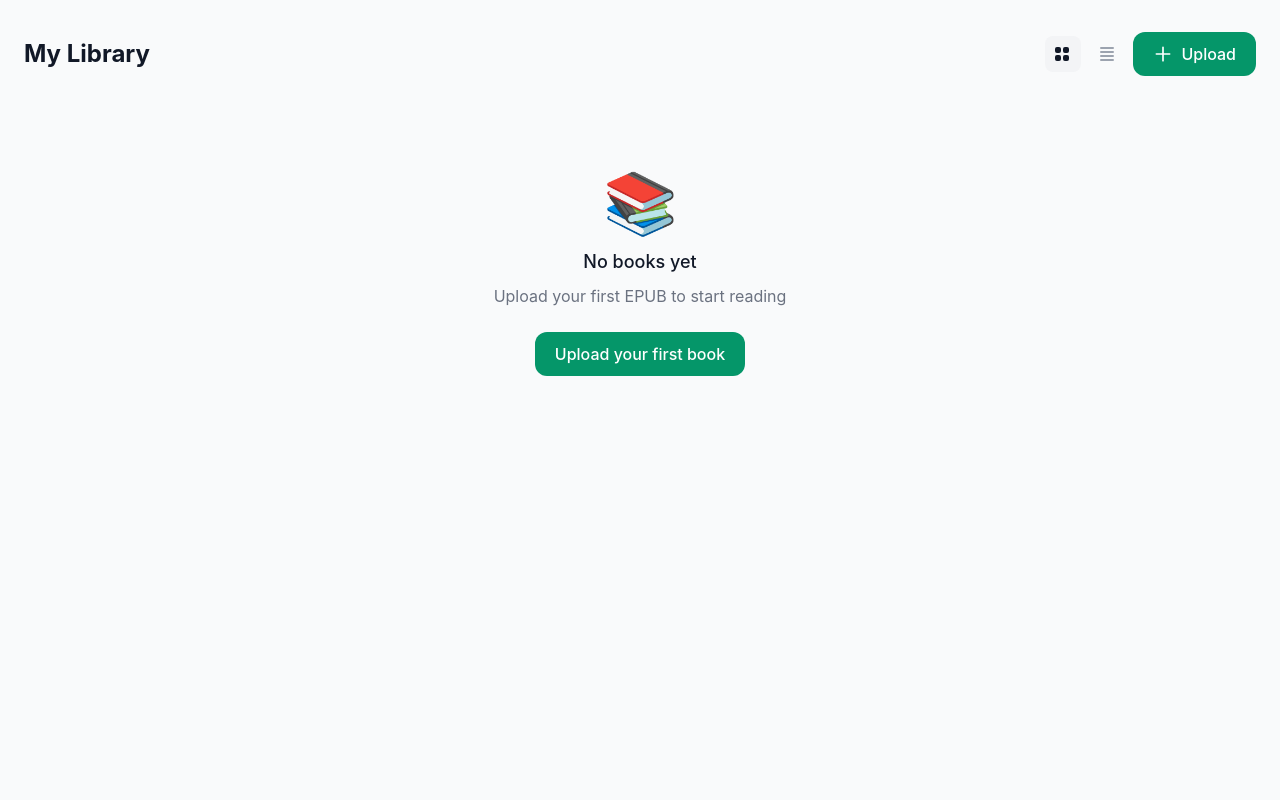
LibraryPage › opens upload dialog when upload button is clicked
The image size is (1280, 800).
Click the button "Upload" at x=1195, y=54, box left=1133, top=32, right=1256, bottom=76
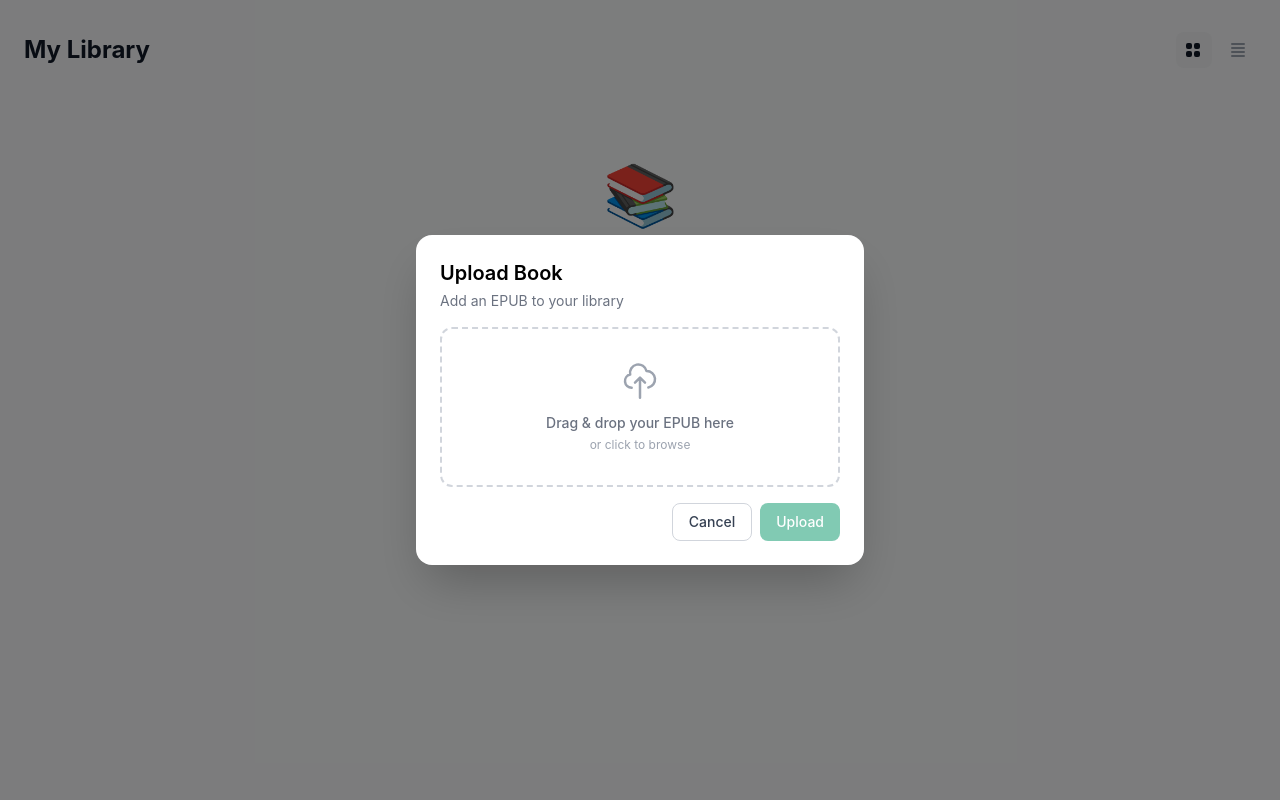
Now the heading "Upload Book" is shown, box left=440, top=261, right=563, bottom=285
